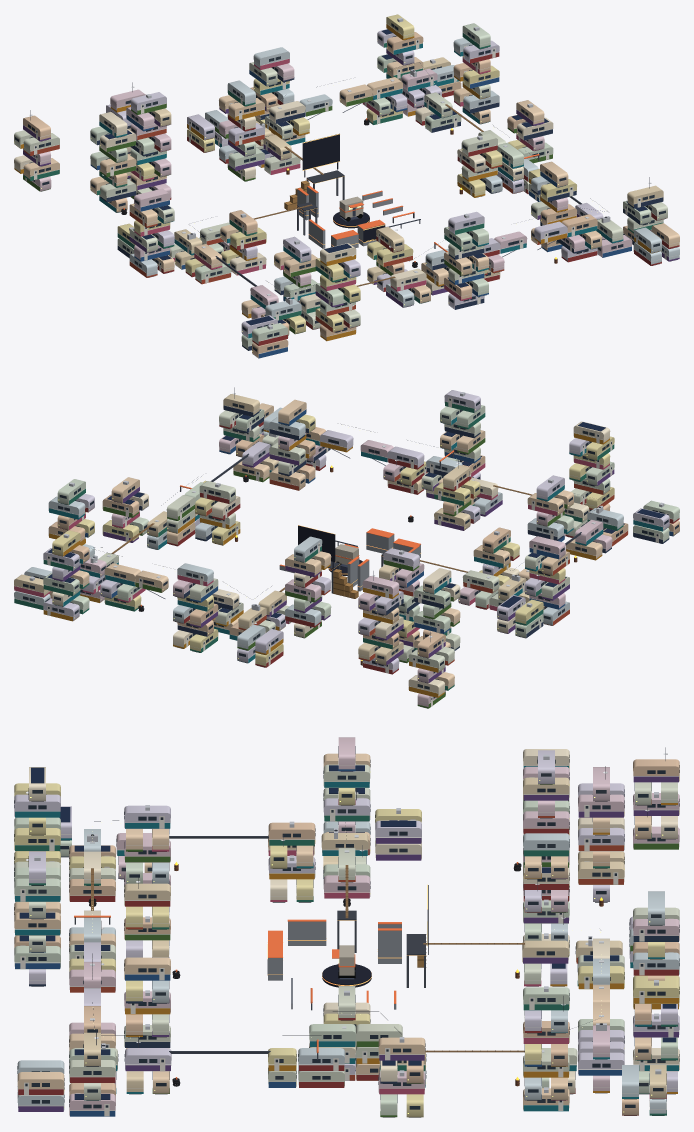
3 renders of one model, top to bottom at view 1: azimuth 30°, elevation 25°; view 2: azimuth 150°, elevation 25°; view 3: azimuth 270°, elevation 25°, orthographic. The views are drawn at different scales.
Visible parts, largest first — view 1: district_city_vertical.lod0; view 2: district_city_vertical.lod0; view 3: district_city_vertical.lod0.
Part boxes in pixels (x1,y1,x2,y2): district_city_vertical.lod0: (14, 14, 679, 358); district_city_vertical.lod0: (14, 387, 679, 708); district_city_vertical.lod0: (14, 737, 679, 1117).
Bounding box in the file's own units: 96.85 × 22.1 × 96.85.
